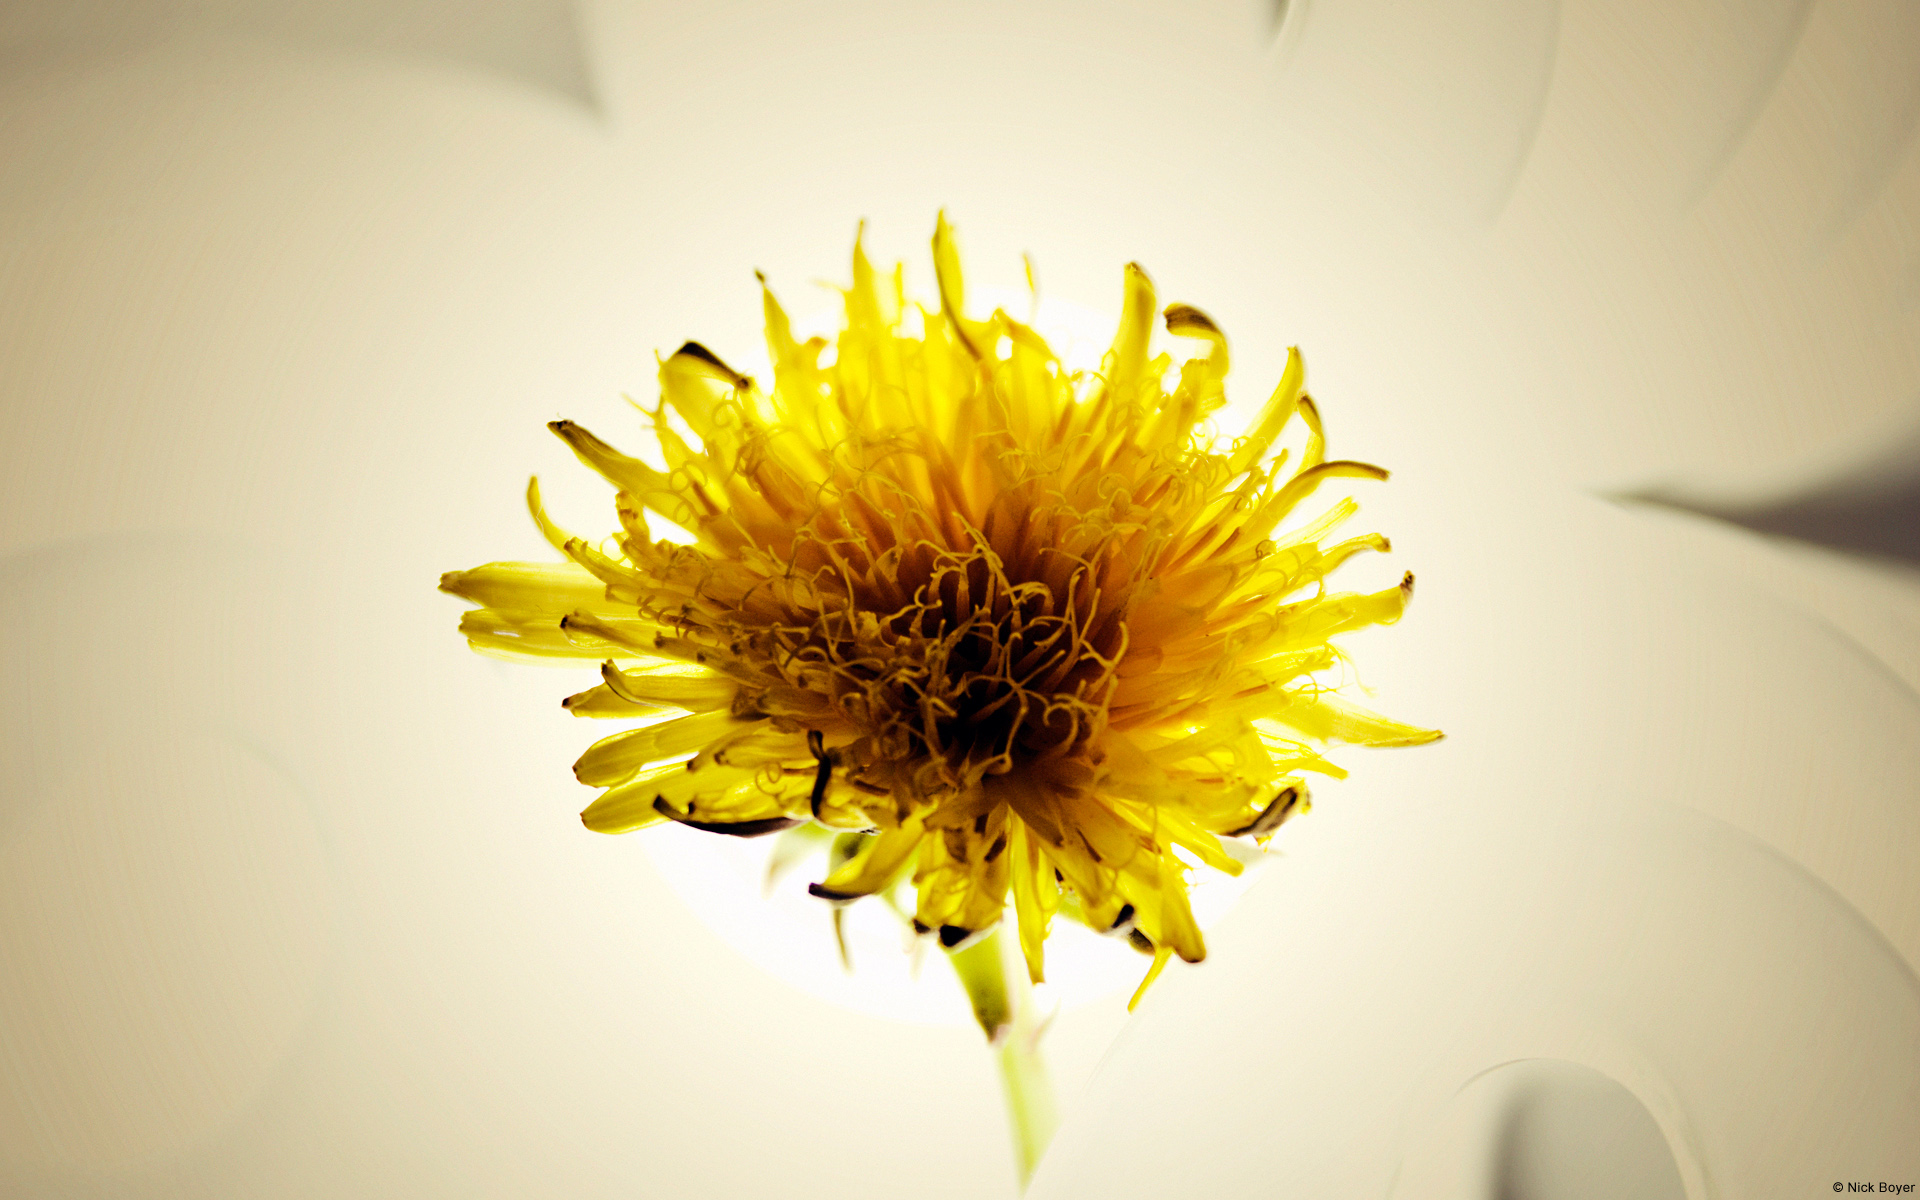dandelion: (463, 234, 1460, 984)
